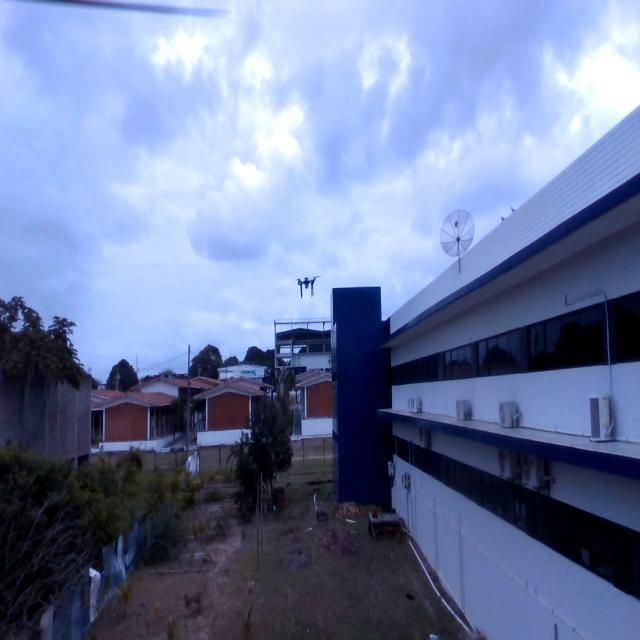-uav-: (292, 252, 322, 307)
